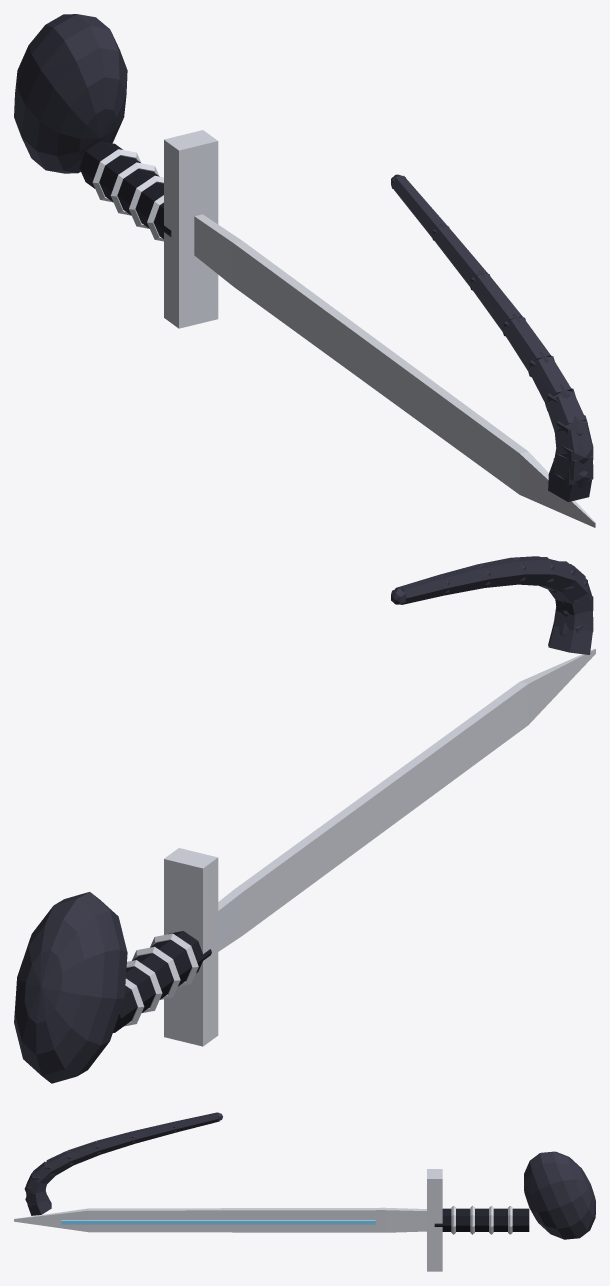
Rendered from Espada_Corchea.obj.
The picture shows the model from 3 angles, top to bottom: view 1: azimuth 30°, elevation 25°; view 2: azimuth 150°, elevation 25°; view 3: azimuth 270°, elevation 25°; orthographic projection. The views are drawn at different scales.
Visible parts, largest first — view 1: Espada_Corchea; view 2: Espada_Corchea; view 3: Espada_Corchea.
Boxes of the visible parts, <box> form: Espada_Corchea: <box>14,14,595,527</box>; Espada_Corchea: <box>14,556,595,1083</box>; Espada_Corchea: <box>14,1112,595,1271</box>.
Size of the model in its own units: 14 by 43.2 by 148.
